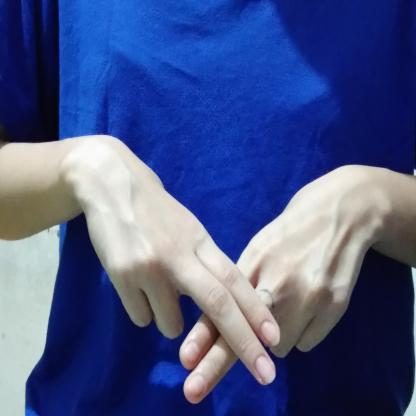father: (60, 131, 391, 408)
